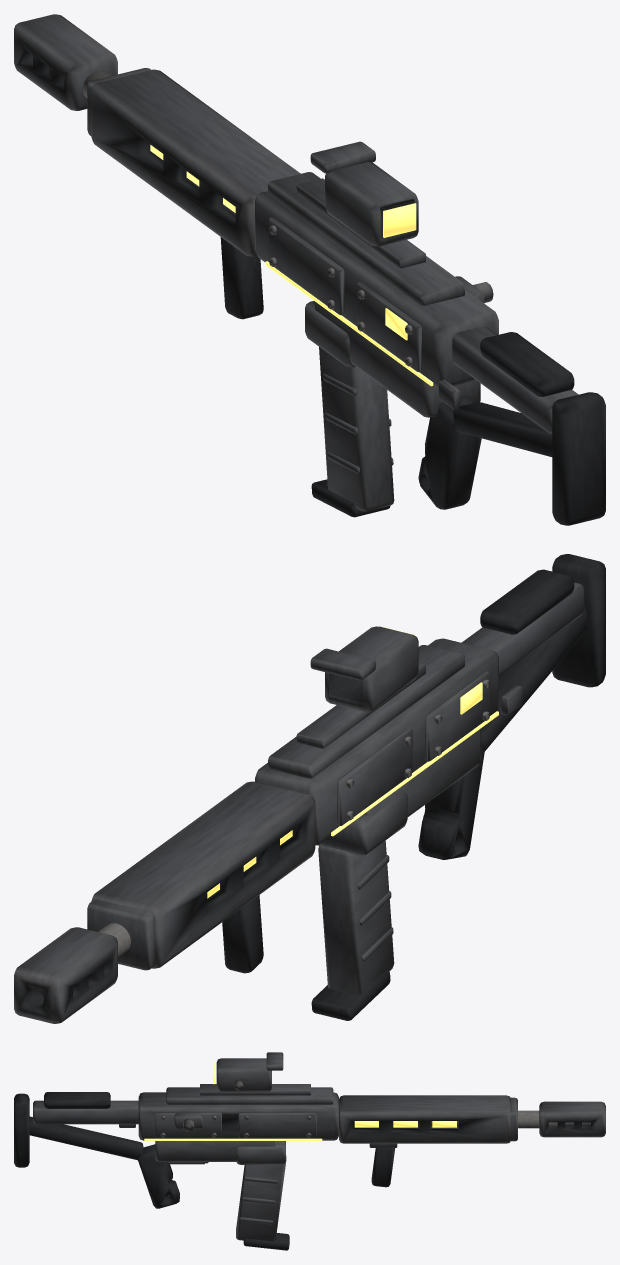
The model's file is rifle-legacy.glb.
3 renders of one model, top to bottom at view 1: azimuth 30°, elevation 25°; view 2: azimuth 150°, elevation 25°; view 3: azimuth 270°, elevation 25°, orthographic. The views are drawn at different scales.
Visible parts, largest first — view 1: RifleBody, RifleMag, RifleAccent; view 2: RifleBody, RifleMag, RifleAccent; view 3: RifleBody, RifleMag, RifleAccent, RifleBolt.
Part boxes in pixels (bbox=[...]): RifleBody: bbox=[14, 14, 605, 525]; RifleMag: bbox=[311, 347, 394, 517]; RifleAccent: bbox=[150, 145, 433, 386]; RifleBody: bbox=[14, 554, 605, 1023]; RifleMag: bbox=[311, 840, 394, 1020]; RifleAccent: bbox=[207, 627, 498, 898]; RifleBody: bbox=[14, 1052, 605, 1208]; RifleMag: bbox=[236, 1156, 289, 1250]; RifleAccent: bbox=[144, 1062, 456, 1140]; RifleBolt: bbox=[174, 1113, 202, 1131].
Size of the model in its own units: 0.1185 by 0.3724 by 1.06.
2 materials, 1 textured.
